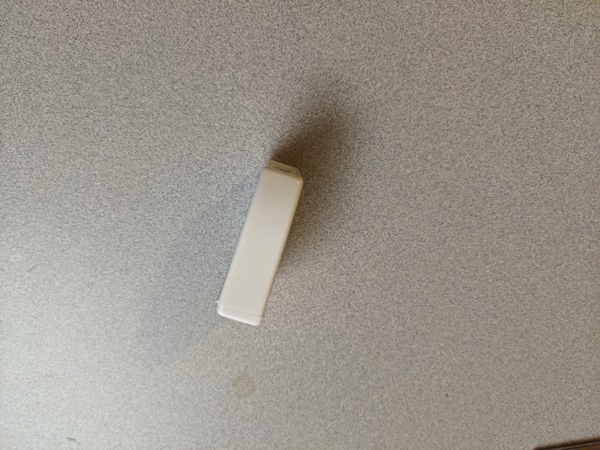plastic: (204, 138, 322, 346)
